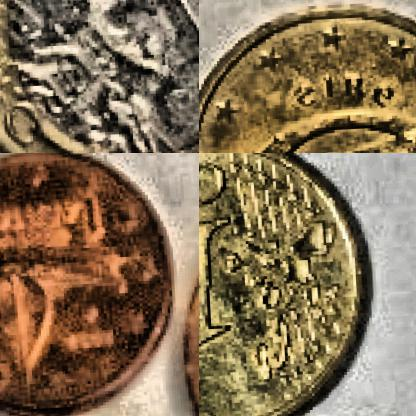coin: (0, 153, 184, 415), (199, 153, 381, 415), (199, 0, 415, 152), (0, 0, 198, 152)
